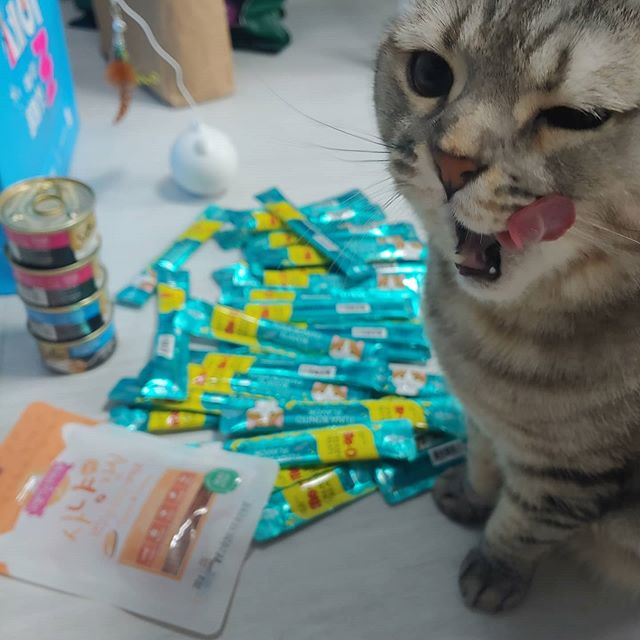cat: (366, 5, 640, 279)
